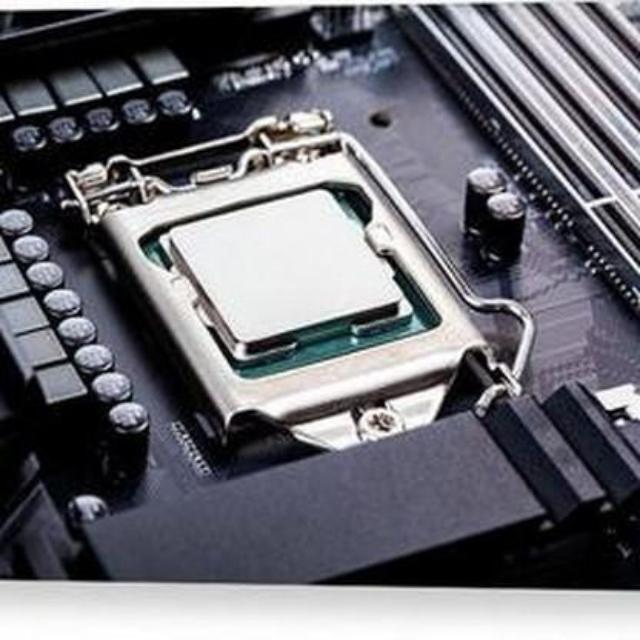CPU: (152, 198, 403, 330)
